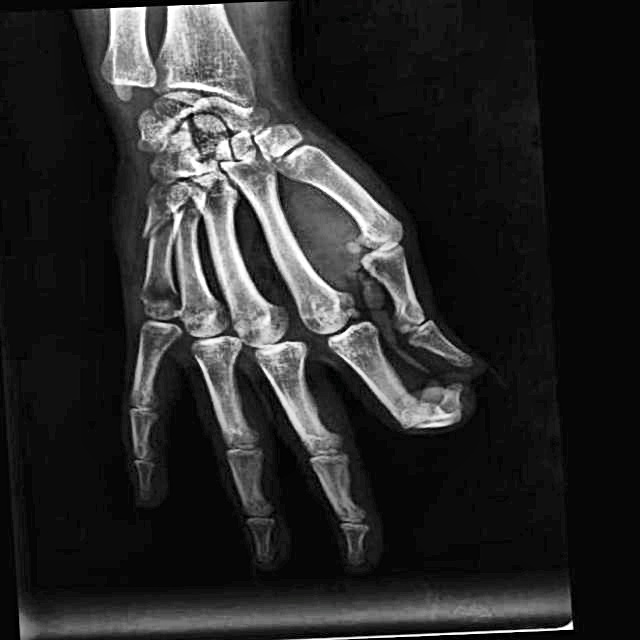Comminuted: (389, 376, 478, 449)
Oblique Displaced: (125, 183, 188, 254)
